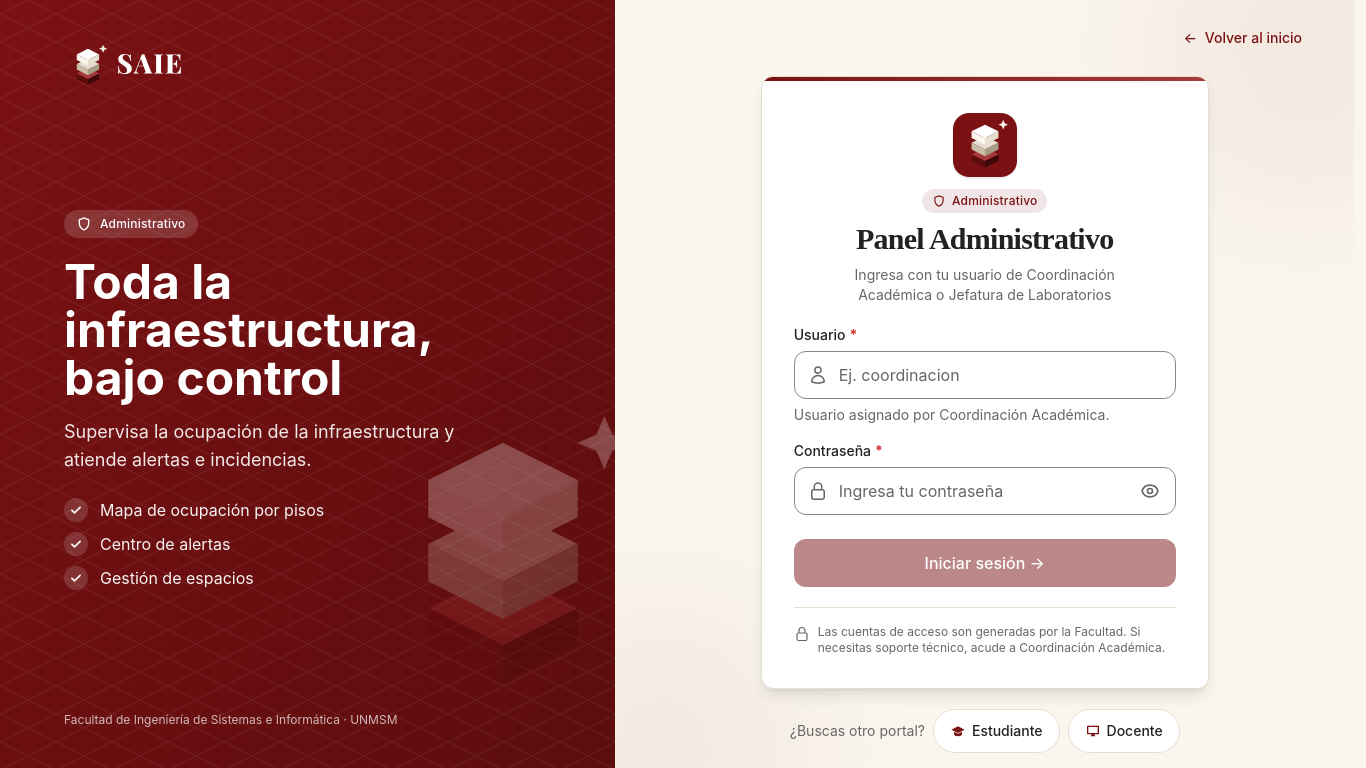
Scenario: LoginAdmin (Issue #217 / 4.25) › muestra un mensaje claro ante credenciales inválidas (401) sin invitar a crear cuenta
In the field labelled "Usuario *": x=985, y=375 [794, 351, 1176, 399], type "coordinacion"
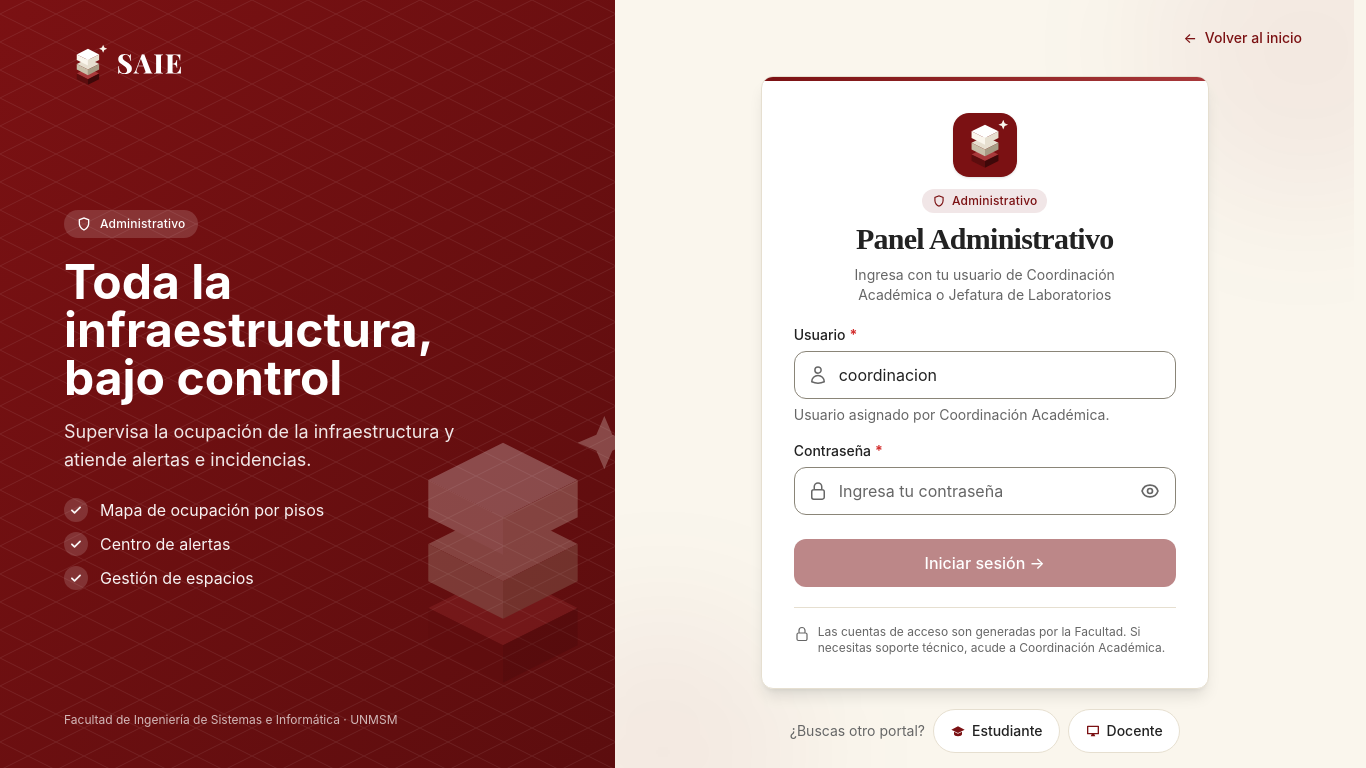
In the password field labelled "Contraseña *": x=985, y=491 [794, 467, 1176, 515], type "incorrecta"
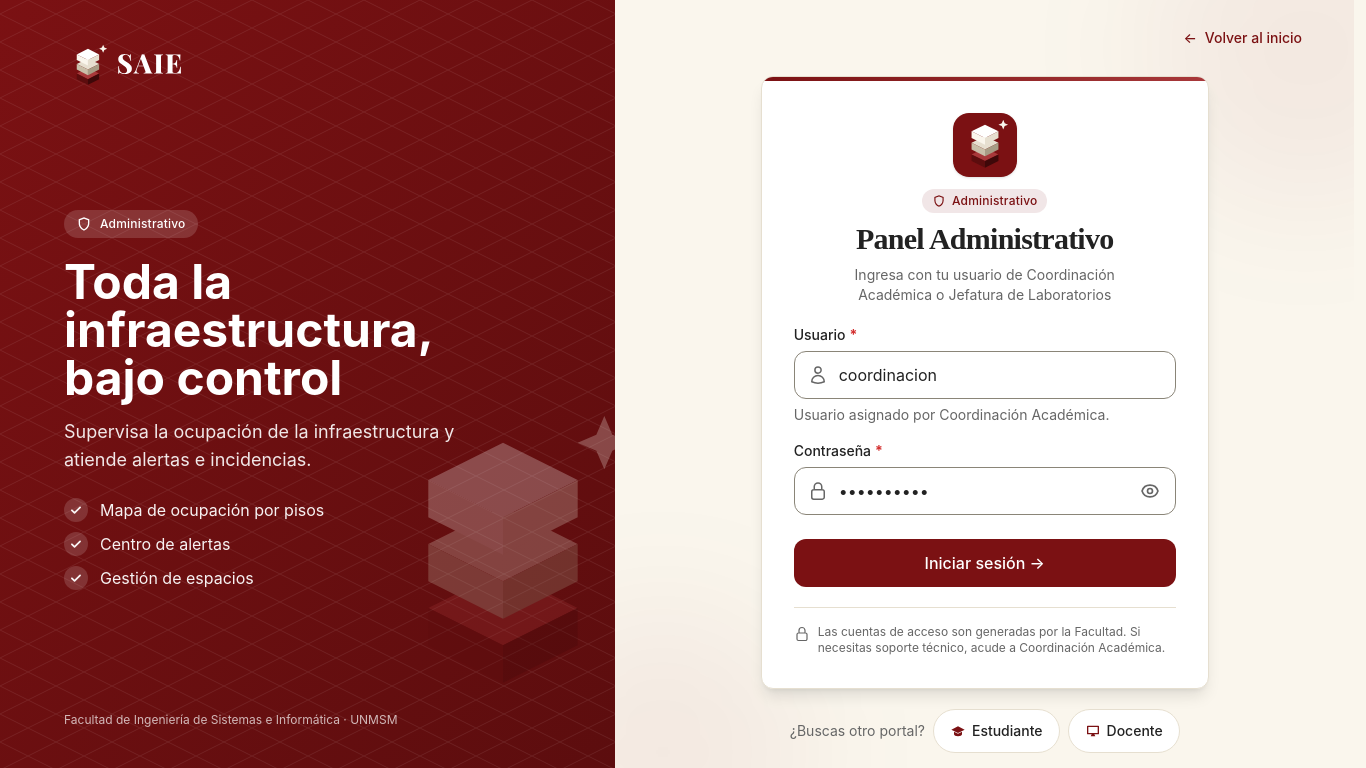
Click the button "Iniciar sesión →": x=985, y=563 [794, 539, 1176, 587]
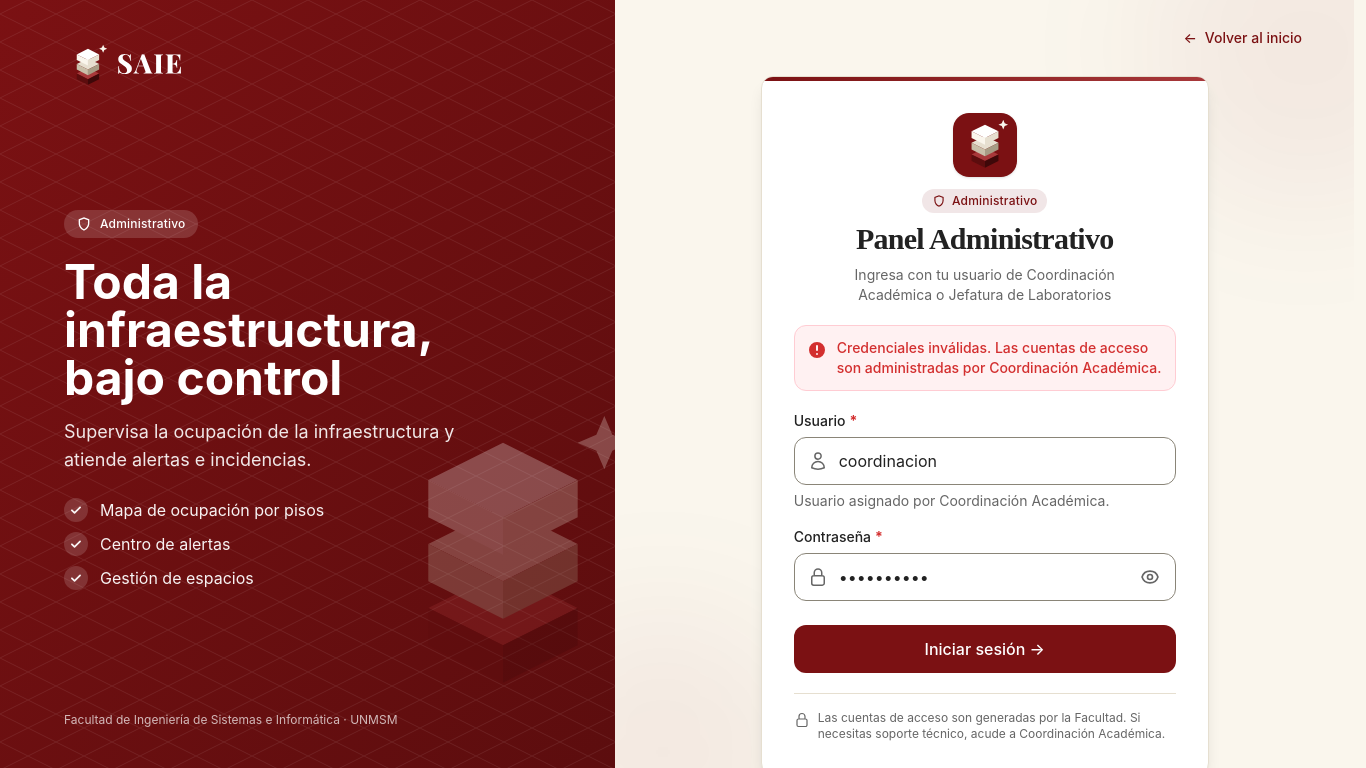
Result: the message shows "Credenciales inválidas" at [837, 339, 1162, 376]
